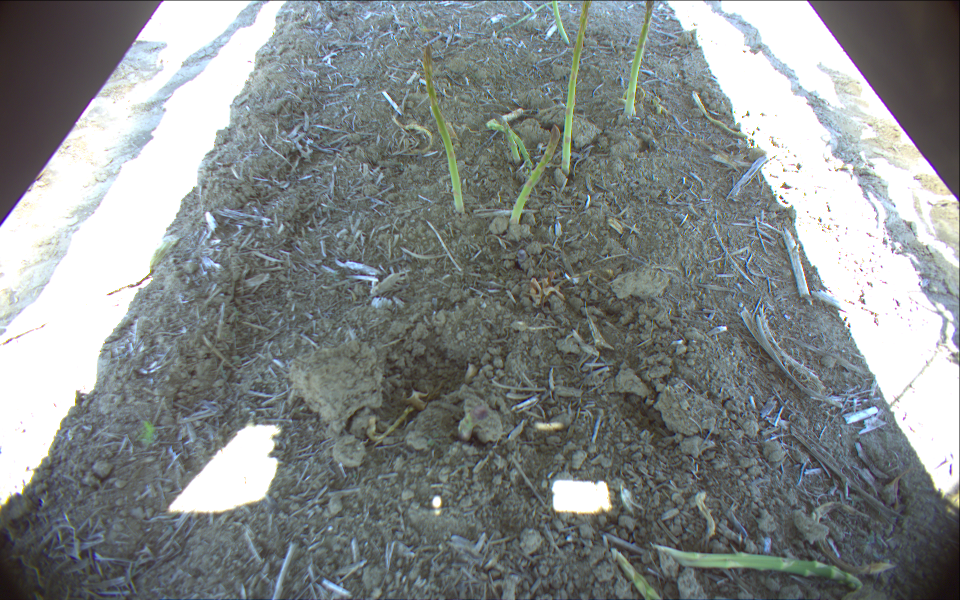aspa: (421, 40, 466, 212), (558, 1, 592, 176), (508, 123, 560, 229), (620, 1, 656, 119)
